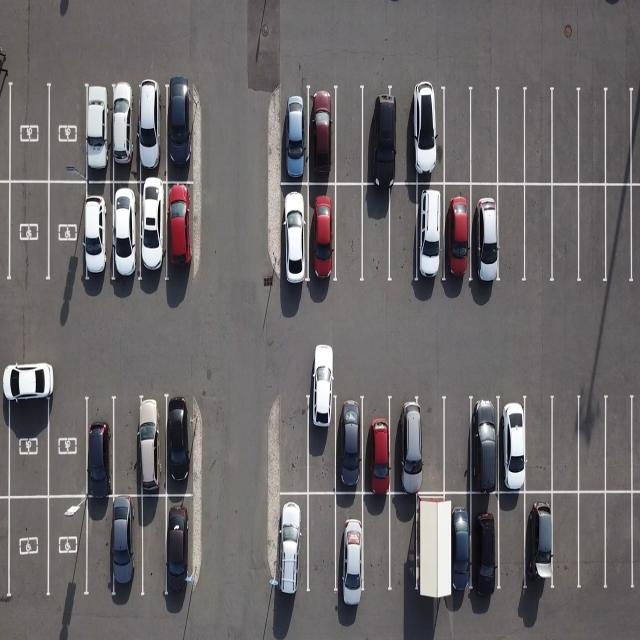space-empty: (5, 384, 48, 499), (47, 387, 91, 497), (5, 498, 48, 602), (47, 180, 87, 287), (8, 181, 48, 287), (409, 494, 448, 599), (305, 494, 342, 603), (491, 492, 529, 597), (8, 79, 46, 183), (545, 492, 584, 593), (49, 82, 87, 184), (113, 396, 151, 496), (276, 394, 312, 496), (604, 492, 640, 593), (358, 495, 393, 598), (573, 488, 609, 588), (438, 398, 474, 494), (574, 397, 609, 495), (604, 394, 638, 494), (523, 398, 558, 494), (573, 183, 606, 284), (524, 184, 558, 282), (606, 184, 638, 288), (549, 182, 582, 282), (82, 497, 115, 597), (549, 394, 583, 491), (388, 185, 422, 282), (138, 497, 170, 600), (334, 85, 367, 184), (386, 495, 419, 594), (334, 184, 366, 284), (494, 182, 526, 282), (358, 186, 391, 282), (605, 89, 638, 184), (415, 402, 448, 497), (577, 92, 609, 189), (525, 89, 557, 183), (494, 91, 526, 184), (550, 91, 581, 185), (440, 91, 470, 185), (470, 90, 500, 184), (392, 90, 417, 188)
space-occupied: (430, 495, 473, 606), (47, 494, 90, 598), (466, 490, 504, 594), (332, 489, 368, 597), (276, 492, 311, 603), (109, 498, 147, 600), (164, 496, 200, 600), (390, 400, 428, 497), (523, 488, 559, 590), (361, 84, 398, 183), (467, 400, 505, 496), (165, 182, 202, 280), (306, 184, 341, 287), (78, 180, 111, 287), (359, 396, 395, 494), (469, 181, 503, 284), (111, 181, 144, 285), (136, 180, 169, 284), (305, 391, 338, 495), (164, 396, 199, 494), (438, 182, 471, 285), (492, 398, 528, 492), (332, 395, 366, 494), (83, 394, 116, 496), (133, 396, 167, 495), (307, 87, 340, 186), (412, 89, 446, 185), (414, 184, 446, 284), (282, 183, 311, 288), (136, 84, 166, 182), (167, 85, 197, 183), (84, 86, 112, 183), (283, 89, 311, 186), (113, 83, 140, 178)
